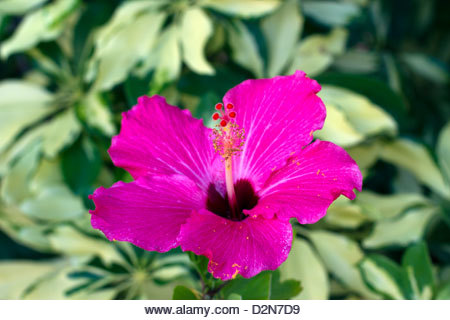Hibiscus: (98, 69, 375, 282)
